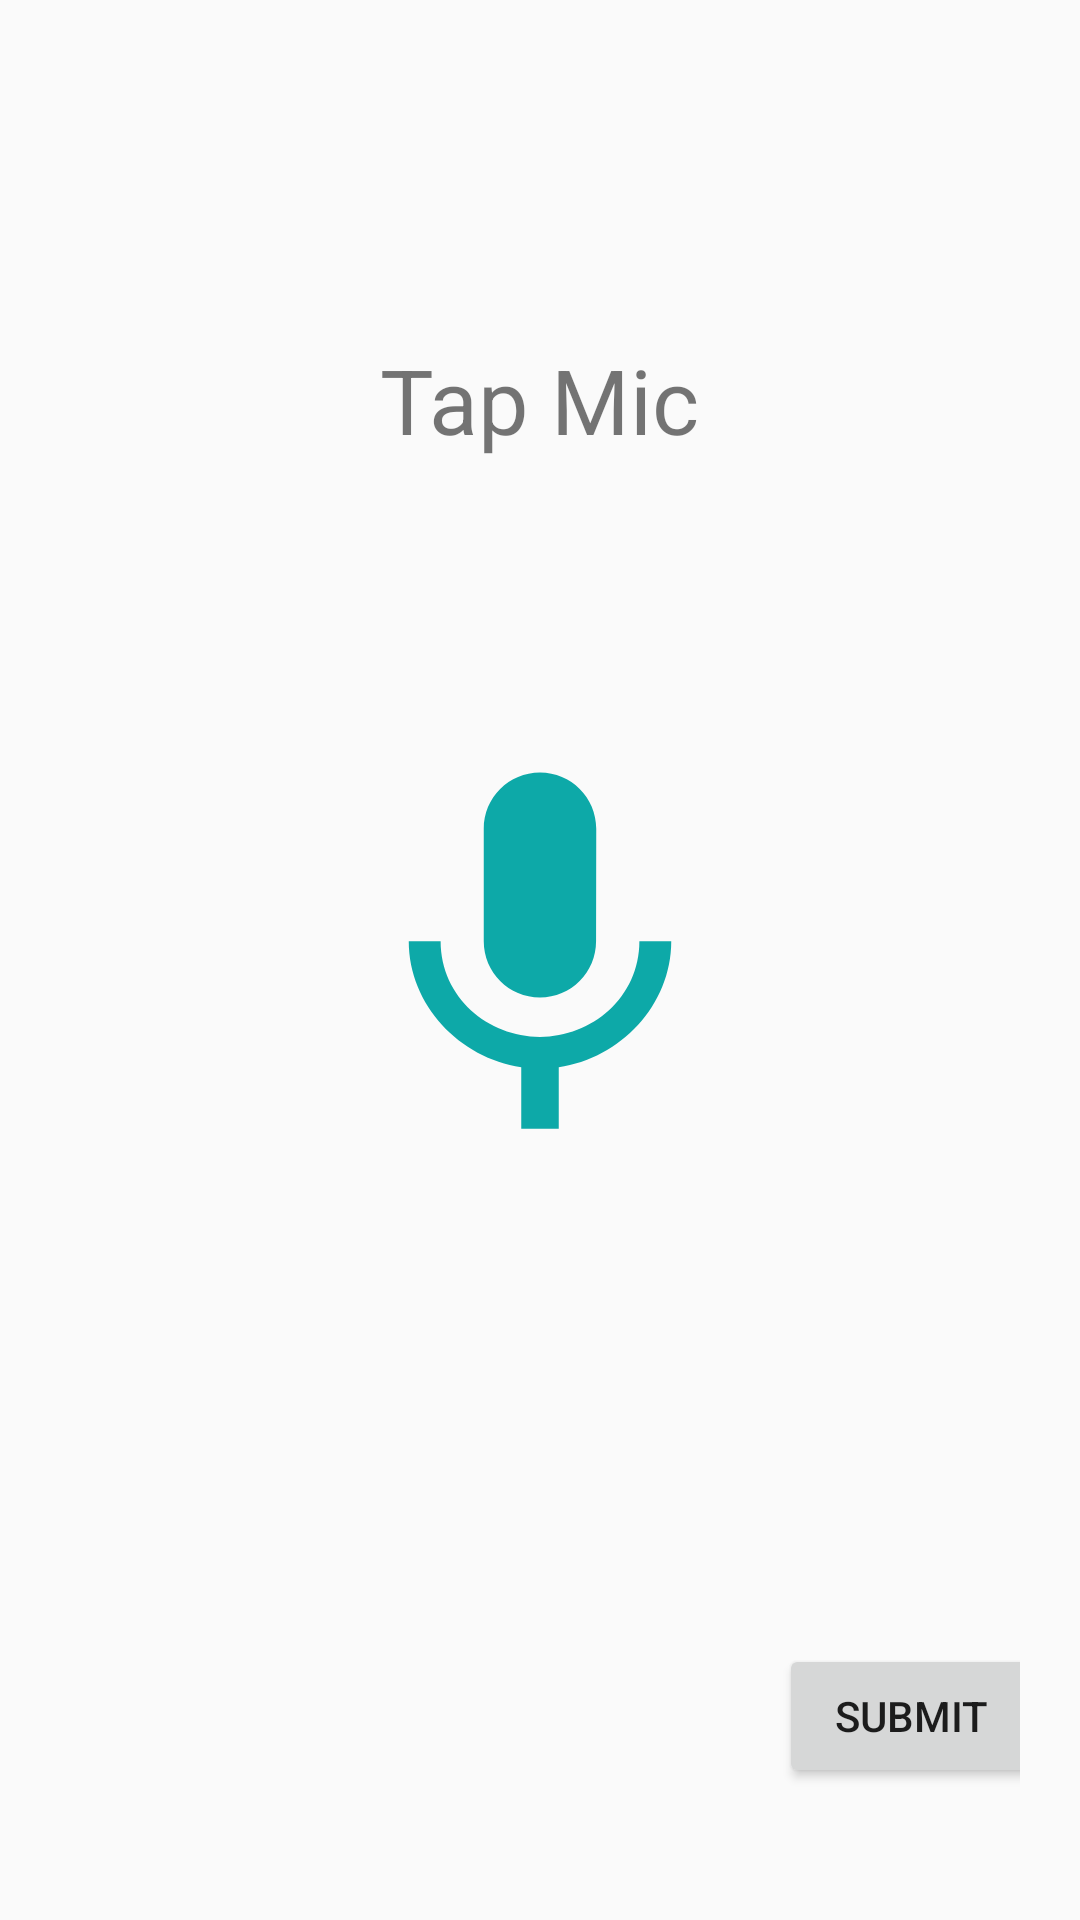

Named icons in this screenshot (1080 × 1920) and their bounding boxes, [x1,y1,x2,y2]:
mic: [408,772,672,1129]
